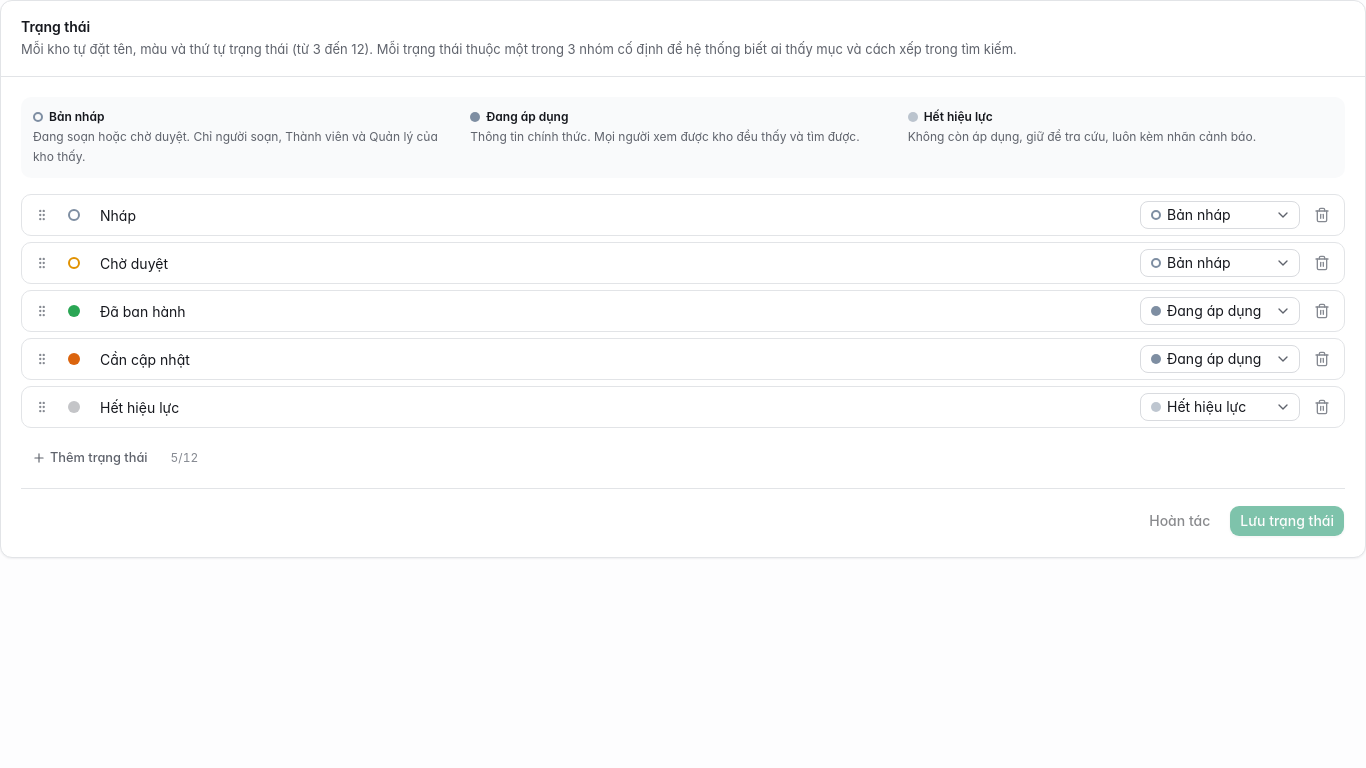
SpaceStatusesSection › tracks unsaved changes and reverts them
Replace the text in the field named "Tên trạng thái thứ" with "Bản thảo" at (613, 215), box x1=94 y1=201 x2=1132 y2=229
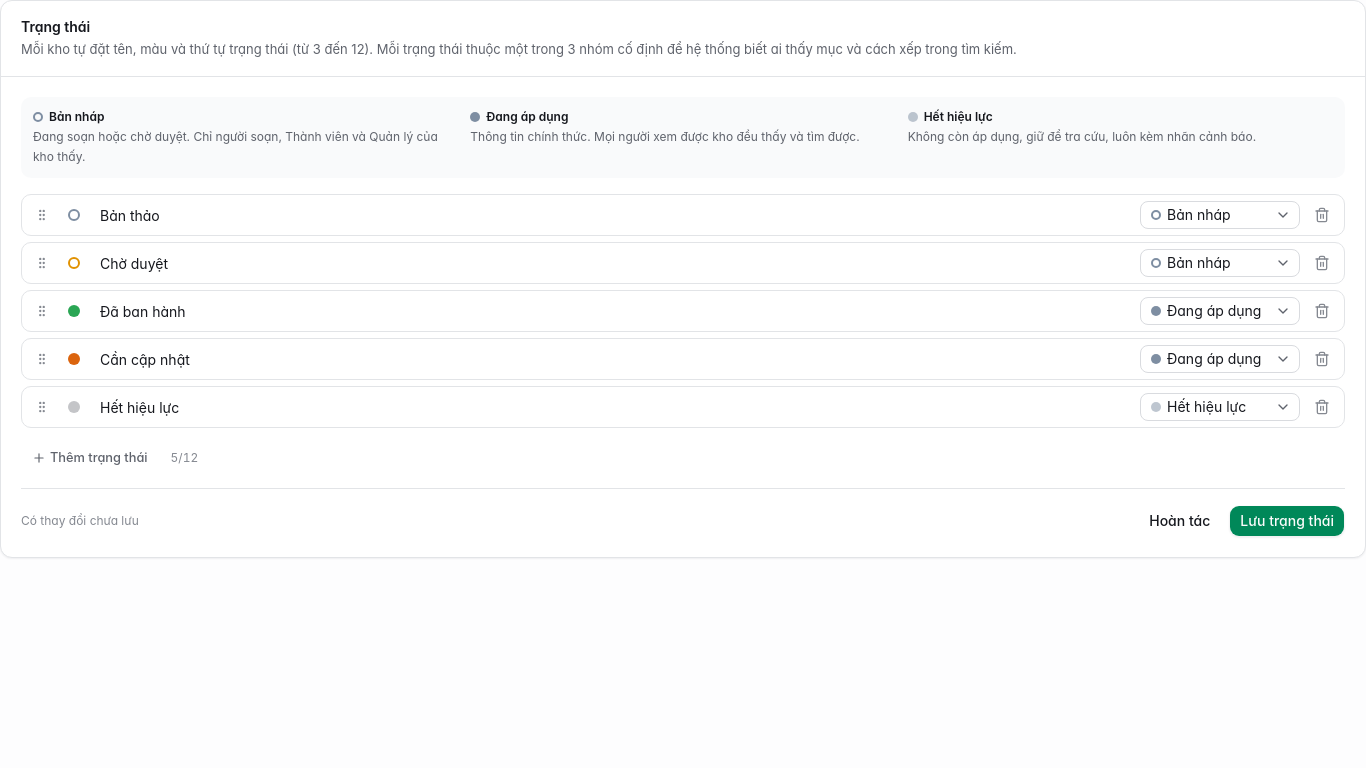
Expected: the text "Có thay đổi chưa lưu" is shown, x1=21 y1=513 x2=139 y2=529
Click the button "Hoàn tác".
click(1180, 521)  # box x1=1138 y1=505 x2=1221 y2=537
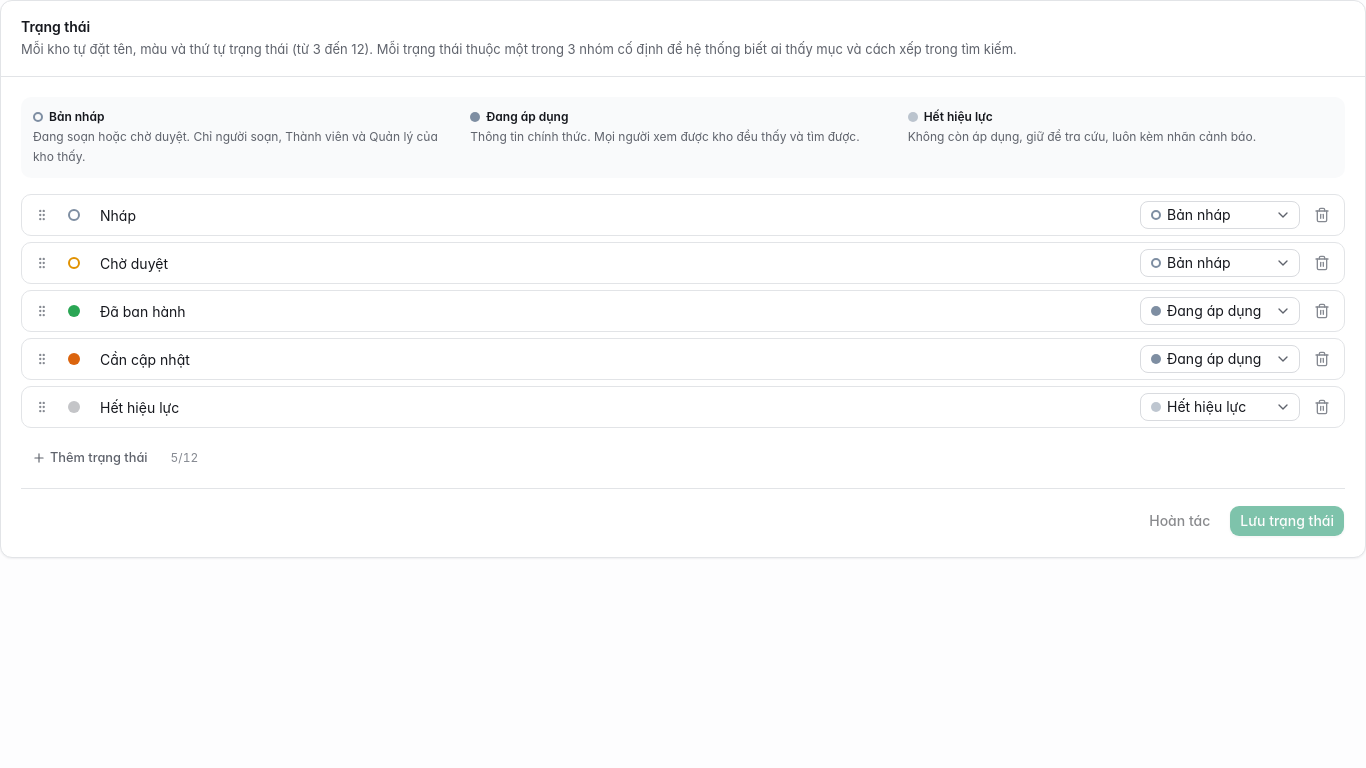
Expected: the field named "Tên trạng thái thứ" holds "Nháp", x1=94 y1=201 x2=1132 y2=229
Expected: the text "Có thay đổi chưa lưu" is gone
